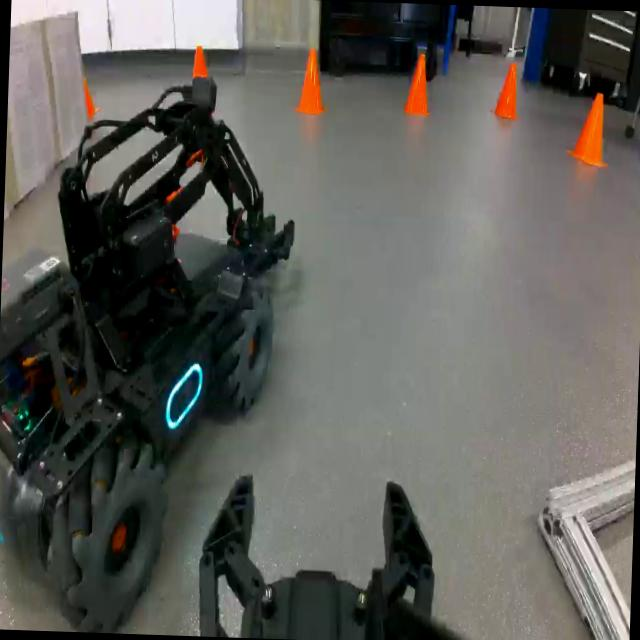cone: (563, 84, 612, 172), (292, 45, 332, 124), (400, 51, 434, 118), (490, 58, 522, 126), (78, 68, 102, 124), (188, 42, 212, 82)
metal barrier: (537, 445, 636, 640)
robot: (0, 64, 305, 627)
storage cube: (5, 16, 66, 196), (27, 11, 96, 163)
